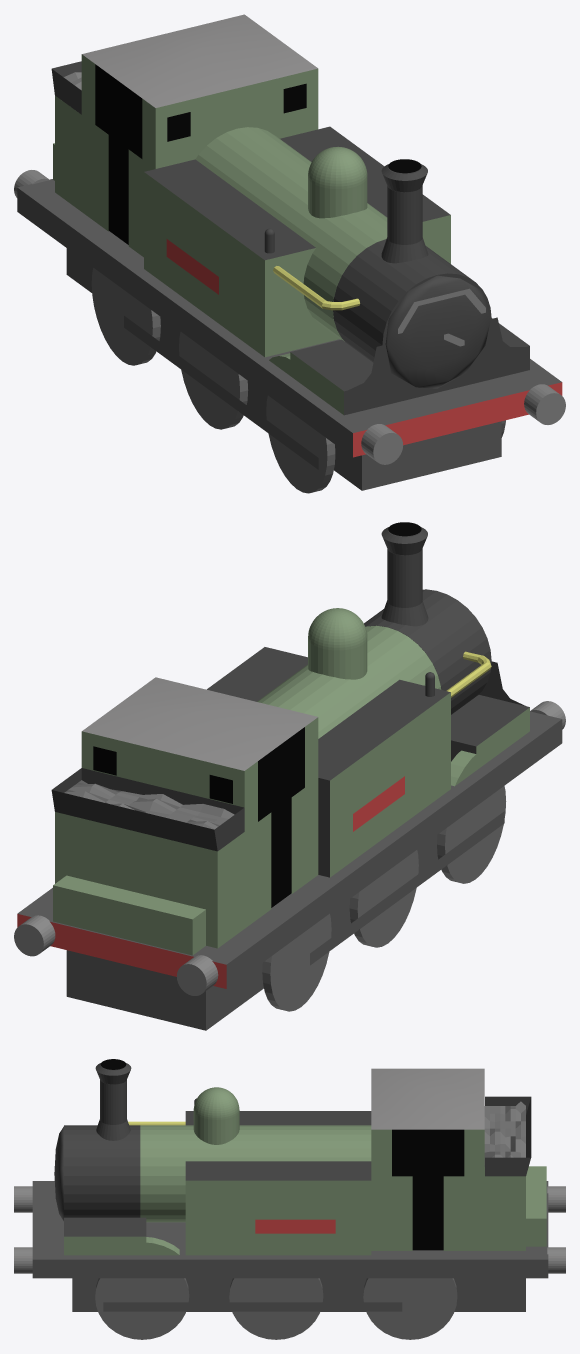
Rendered from lbscr-a1-olive.dae.
The picture shows the model from 3 angles, top to bottom: view 1: azimuth 30°, elevation 25°; view 2: azimuth 150°, elevation 25°; view 3: azimuth 270°, elevation 25°; orthographic projection. The views are drawn at different scales.
Visible parts, largest first — view 1: Plane_001, Plane_011, Cylinder_006, Plane_003, Sphere_001, Cube_001, Cylinder_007, Plane, Plane_015, Plane_004, Plane_020, Plane_009 (+17 smaller); view 2: Plane, Plane_011, Plane_001, Plane_003, Cube_001, Cube, Cylinder_006, Plane_004, Plane_016, Plane_015, Cylinder_007, Cylinder_001 (+16 smaller); view 3: Plane_020, Plane_011, Cylinder_006, Plane, Plane_003, Cylinder_007, Plane_015, Cube_001, Cylinder_005, Cylinder_002, Cylinder_004, Plane_019 (+17 smaller).
Boxes of the visible parts, bbox=[...] form: Plane_001: bbox=[128, 88, 339, 357]; Plane_011: bbox=[17, 179, 561, 457]; Cylinder_006: bbox=[195, 127, 387, 341]; Plane_003: bbox=[82, 14, 317, 107]; Sphere_001: bbox=[385, 275, 490, 388]; Cube_001: bbox=[66, 248, 501, 490]; Cylinder_007: bbox=[333, 239, 491, 362]; Plane: bbox=[55, 54, 108, 231]; Plane_015: bbox=[95, 64, 306, 244]; Plane_004: bbox=[144, 159, 315, 260]; Plane_020: bbox=[237, 68, 450, 263]; Plane_009: bbox=[291, 339, 436, 415]; Plane: bbox=[55, 731, 271, 948]; Plane_011: bbox=[17, 711, 562, 988]; Plane_001: bbox=[291, 692, 450, 893]; Plane_003: bbox=[82, 677, 317, 770]; Cube_001: bbox=[66, 835, 438, 1030]; Cube: bbox=[53, 875, 205, 955]; Cylinder_006: bbox=[257, 625, 441, 738]; Plane_004: bbox=[318, 679, 450, 877]; Plane_016: bbox=[51, 768, 244, 851]; Plane_015: bbox=[93, 727, 304, 907]; Cylinder_007: bbox=[364, 589, 491, 714]; Cylinder_001: bbox=[262, 913, 331, 1011]; Plane_020: bbox=[185, 1129, 412, 1255]; Plane_011: bbox=[32, 1181, 548, 1278]; Cylinder_006: bbox=[140, 1125, 371, 1222]; Plane: bbox=[443, 1129, 525, 1250]; Plane_003: bbox=[371, 1068, 484, 1129]; Cylinder_007: bbox=[64, 1125, 140, 1217]; Plane_015: bbox=[392, 1129, 464, 1250]; Cube_001: bbox=[72, 1278, 525, 1311]; Cylinder_005: bbox=[363, 1278, 457, 1339]; Cylinder_002: bbox=[95, 1278, 189, 1339]; Cylinder_004: bbox=[229, 1278, 323, 1339]; Plane_019: bbox=[185, 1161, 371, 1180].
Size of the model in its own units: 1.8 by 5.35 by 2.59.
